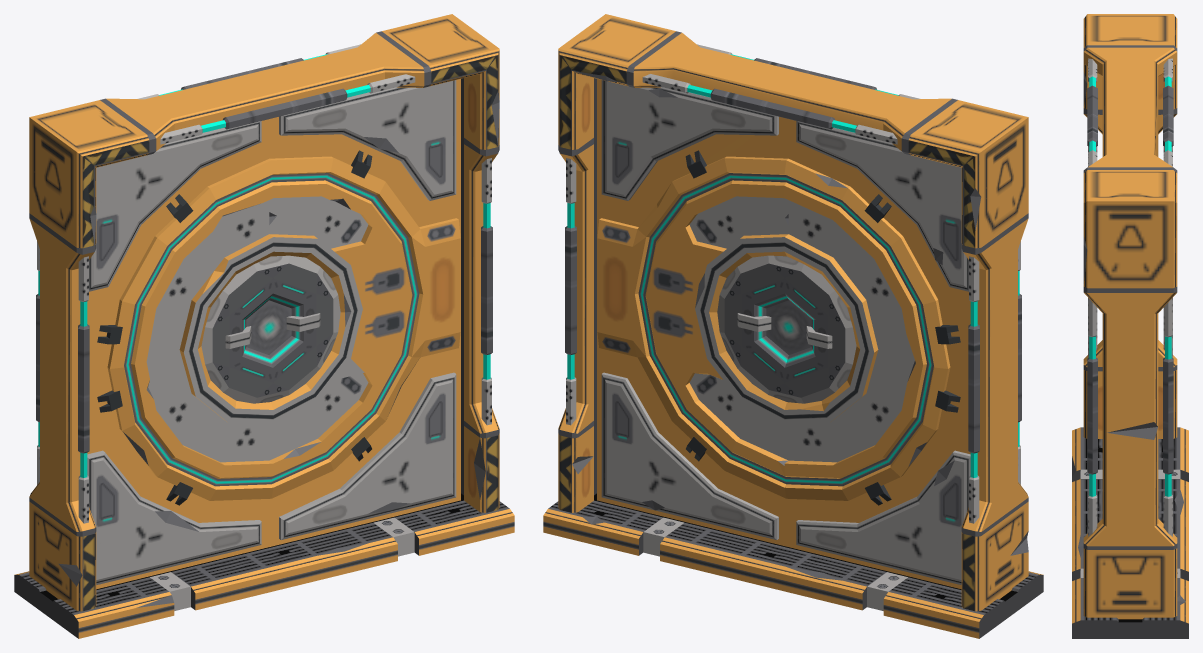
The model's file is SM_Bld_Door_Double_Large_01.fbx.
3 views of the same model, side by side, from view 1: azimuth 30°, elevation 25°; view 2: azimuth 150°, elevation 25°; view 3: azimuth 270°, elevation 25° (orthographic). The views are drawn at different scales.
Parts seen in each view (by area): view 1: SM_Bld_Door_Double_Large_01, SM_Bld_Door_Double_Large_01_Lock_01; view 2: SM_Bld_Door_Double_Large_01, SM_Bld_Door_Double_Large_01_Lock_01; view 3: SM_Bld_Door_Double_Large_01.
Boxes of the visible parts, x1,y1,x2,y2 form: SM_Bld_Door_Double_Large_01: (14,14,514,638); SM_Bld_Door_Double_Large_01_Lock_01: (201,255,340,403); SM_Bld_Door_Double_Large_01: (543,14,1043,638); SM_Bld_Door_Double_Large_01_Lock_01: (717,255,856,403); SM_Bld_Door_Double_Large_01: (1072,14,1188,638).
Bounding box in the file's own units: 255 × 268 × 65.18.
